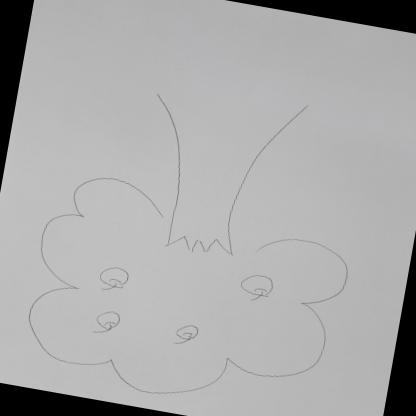apple: (91, 258, 134, 294), (235, 270, 279, 302), (90, 306, 127, 335), (171, 322, 204, 346)
branch_sharp: (160, 225, 242, 266)
crown_cloud: (10, 166, 357, 416)
trunk_reflex: (144, 101, 288, 212)
